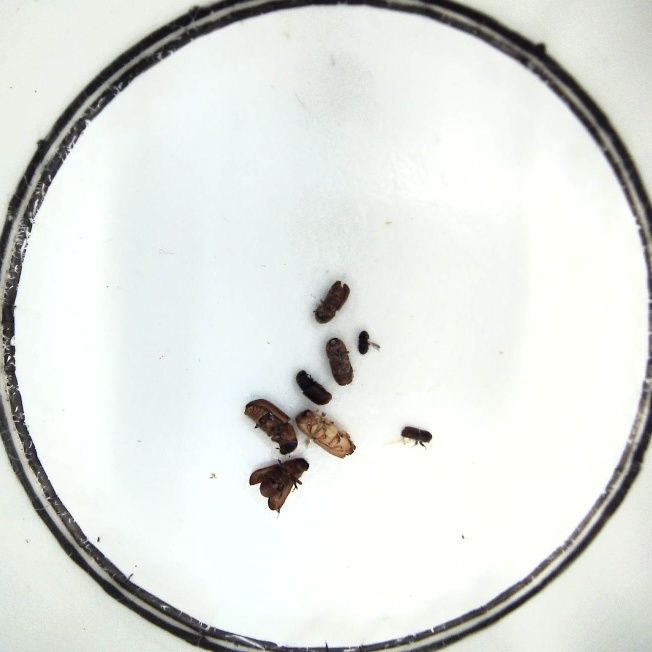acuminatus: (400, 425, 432, 450)
armandi: (295, 366, 333, 406)
boerner: (297, 408, 357, 461)
coleoptera: (356, 328, 372, 355)
leconte: (249, 456, 308, 513), (245, 399, 297, 455)
linnaeus: (313, 279, 352, 326), (326, 338, 355, 385)
